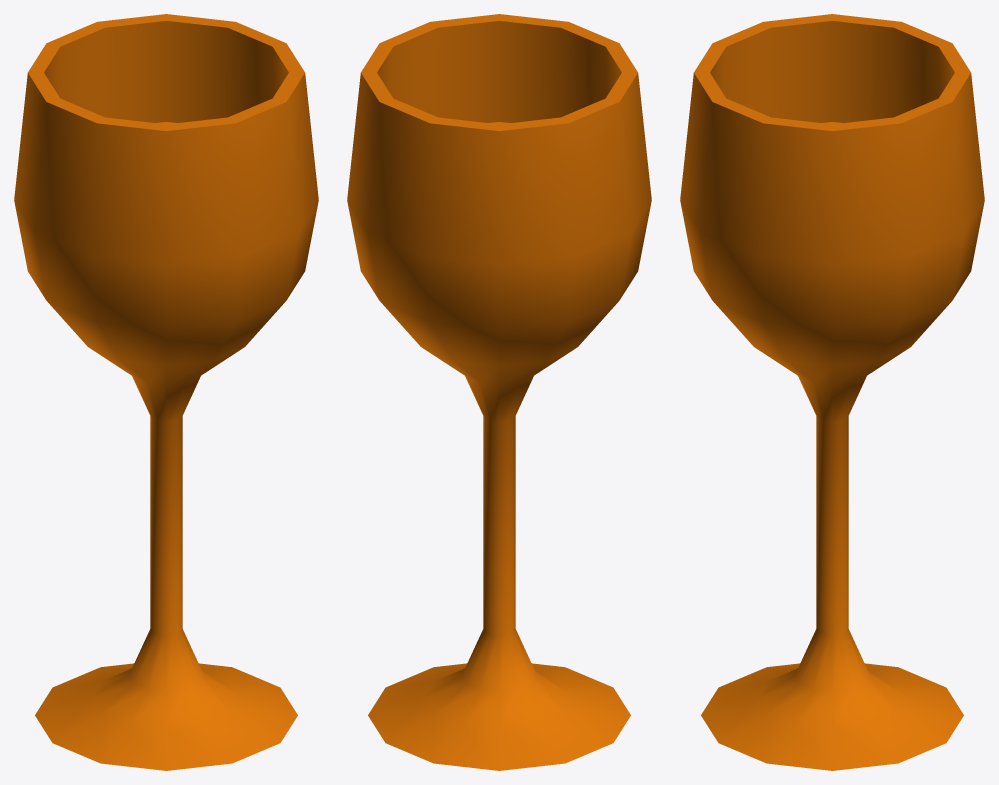
File: SM_Glass.fbx
3 renders of one model, left to right at view 1: azimuth 30°, elevation 25°; view 2: azimuth 150°, elevation 25°; view 3: azimuth 270°, elevation 25°, orthographic.
Parts seen in each view (by area): view 1: SM_Glass; view 2: SM_Glass; view 3: SM_Glass.
Part boxes in pixels (<box>): SM_Glass: <box>14,14,318,770</box>; SM_Glass: <box>347,14,651,770</box>; SM_Glass: <box>680,14,984,770</box>.
Bounding box in the file's own units: 31.83 × 74.09 × 31.83.
